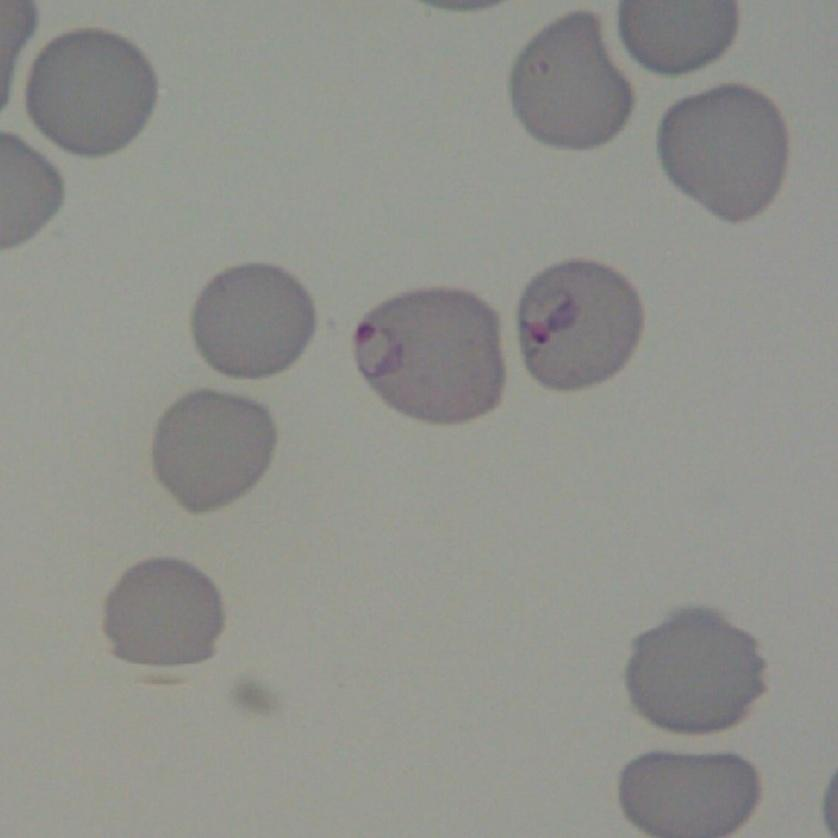Infected: (336, 413, 485, 545), (196, 447, 321, 581)
Uninfected: (52, 615, 183, 753), (674, 677, 815, 805), (206, 685, 331, 825), (74, 109, 213, 224), (560, 325, 689, 445), (518, 461, 651, 576), (618, 169, 738, 278), (78, 0, 219, 91), (98, 763, 221, 838)
